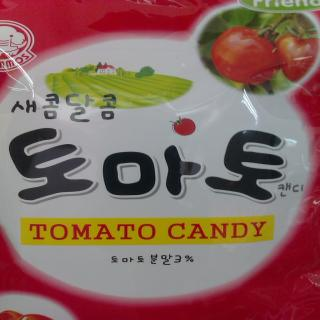tomato: (210, 22, 290, 81), (276, 28, 320, 82)
